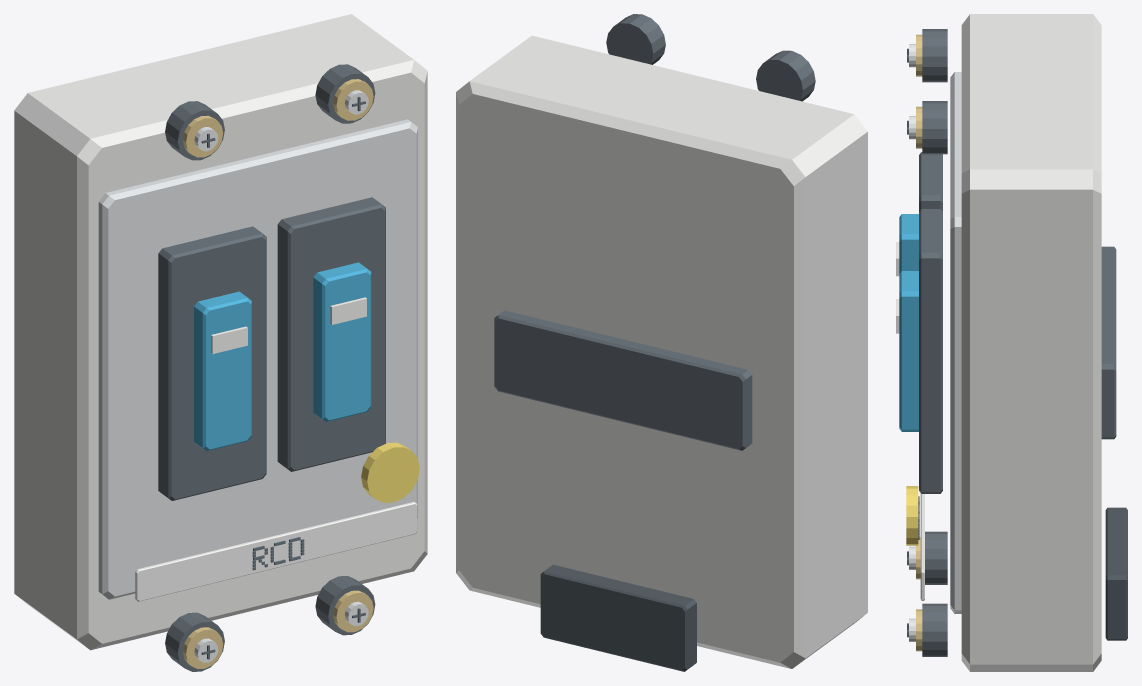
File: differentialBreaker.glb
3 views of the same model, side by side, from view 1: azimuth 30°, elevation 25°; view 2: azimuth 150°, elevation 25°; view 3: azimuth 270°, elevation 25° (orthographic).
Parts seen in each view (by area): view 1: differentialBreaker-preview; view 2: differentialBreaker-preview; view 3: differentialBreaker-preview.
Part boxes in pixels (box(x1,y1,x2,y2)): differentialBreaker-preview: box(14, 14, 427, 671); differentialBreaker-preview: box(456, 14, 867, 671); differentialBreaker-preview: box(896, 14, 1127, 671).
Bounding box in the file's own units: 2.33 × 3.56 × 1.36.
